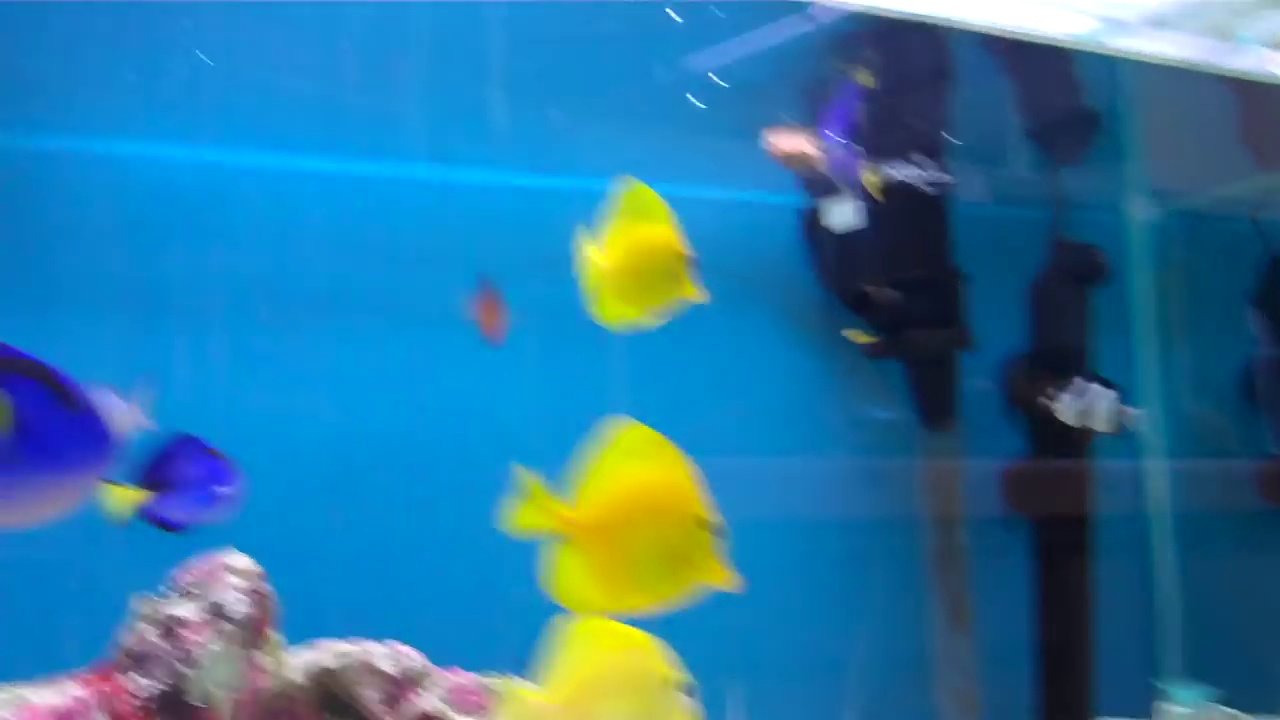blue tang surgeonfish: (109, 428, 269, 547)
saddle butterfly fish: (498, 419, 758, 603), (550, 159, 720, 348)
